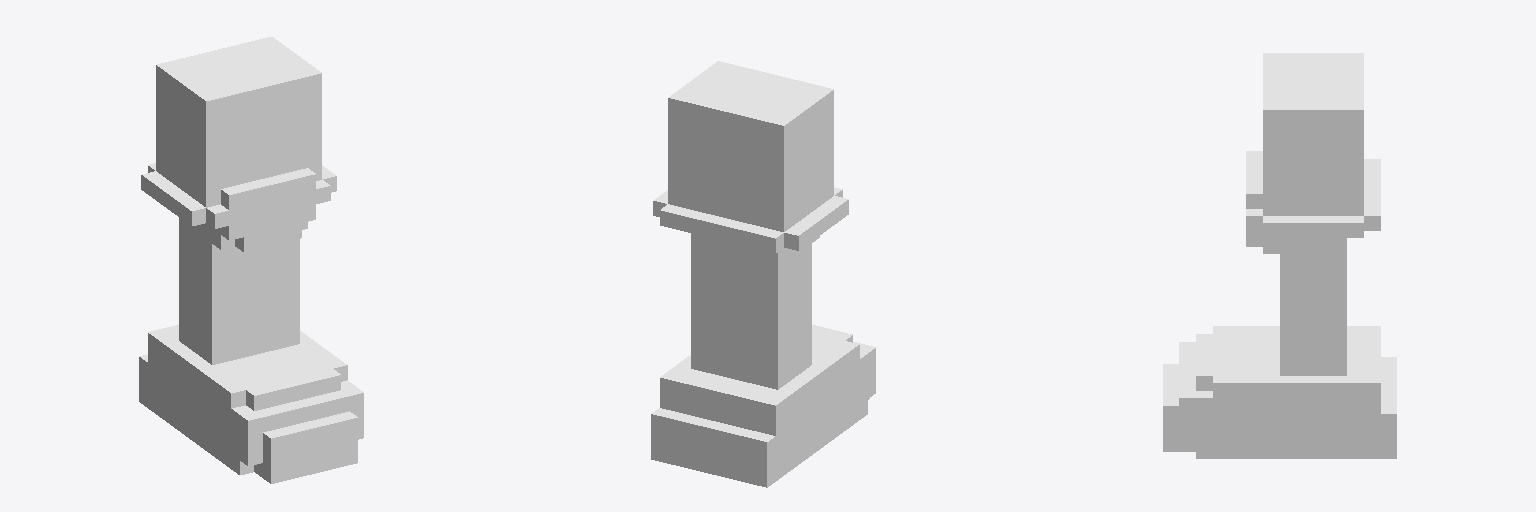
Rendered from Girl-3.obj.
The picture shows the model from 3 angles: view 1: azimuth 30°, elevation 25°; view 2: azimuth 150°, elevation 25°; view 3: azimuth 270°, elevation 25°; orthographic projection.
Visible parts, largest first — view 1: object 1; view 2: object 1; view 3: object 1.
Boxes of the visible parts, box(x1,y1,x2,y2) form: object 1: box(139, 37, 363, 483); object 1: box(651, 61, 875, 487); object 1: box(1163, 53, 1396, 458).
Bounding box in the file's own units: 1 × 2.3 × 1.4.